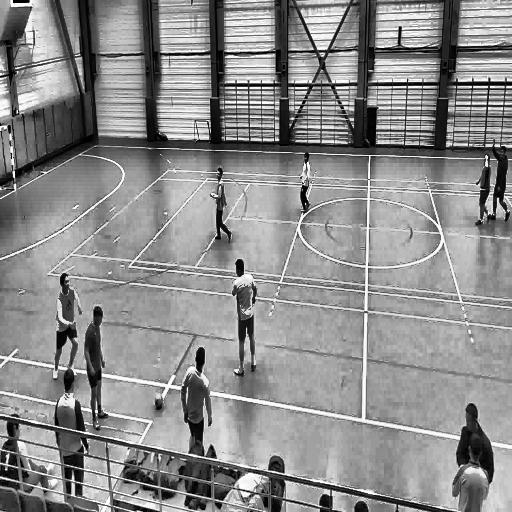ball: (153, 392, 164, 410)
player: (54, 367, 90, 502), (82, 306, 111, 431), (231, 258, 259, 379), (179, 346, 213, 441), (53, 270, 82, 380), (208, 166, 233, 244), (491, 136, 510, 226), (474, 152, 492, 228), (297, 151, 313, 215)
